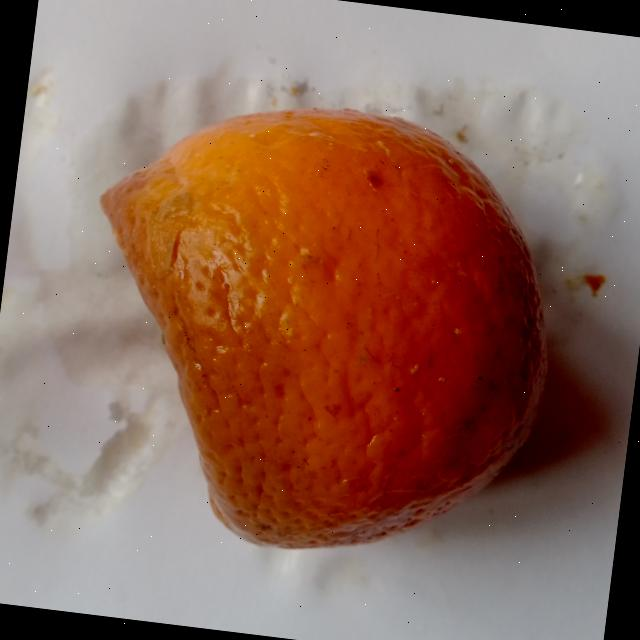Rotten: (59, 84, 575, 577)
